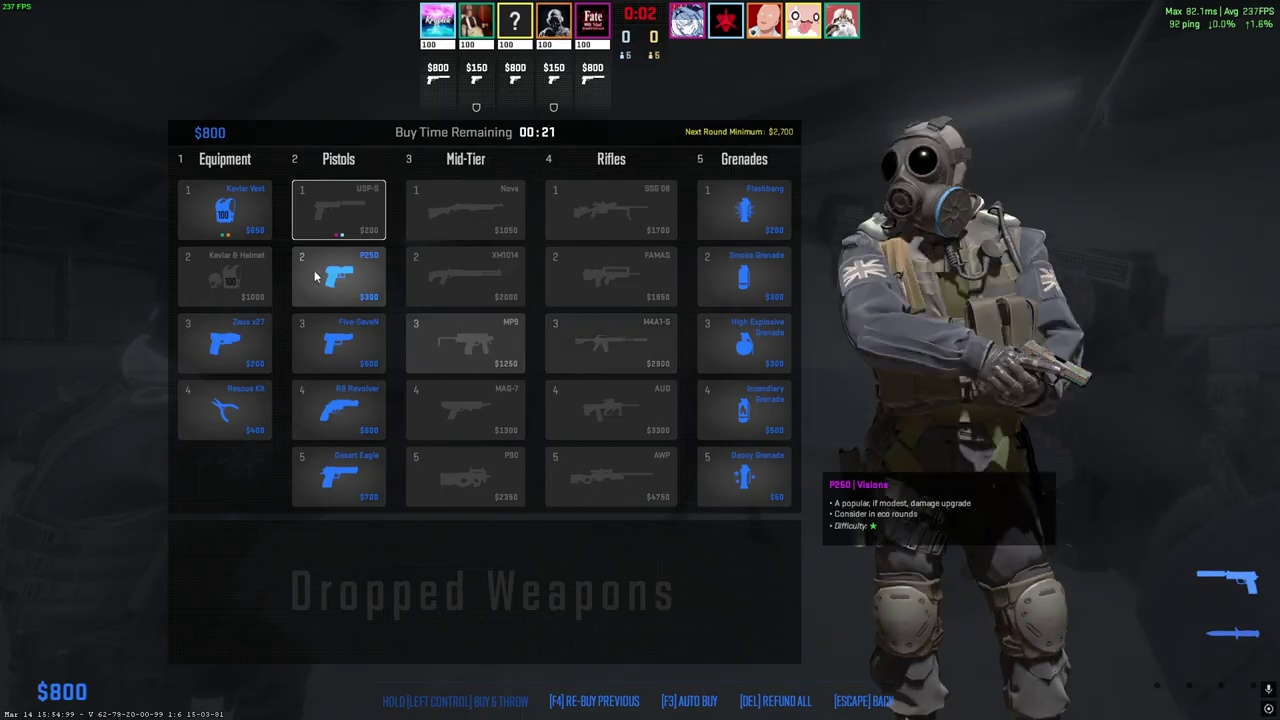CT: (852, 123, 1081, 720)
